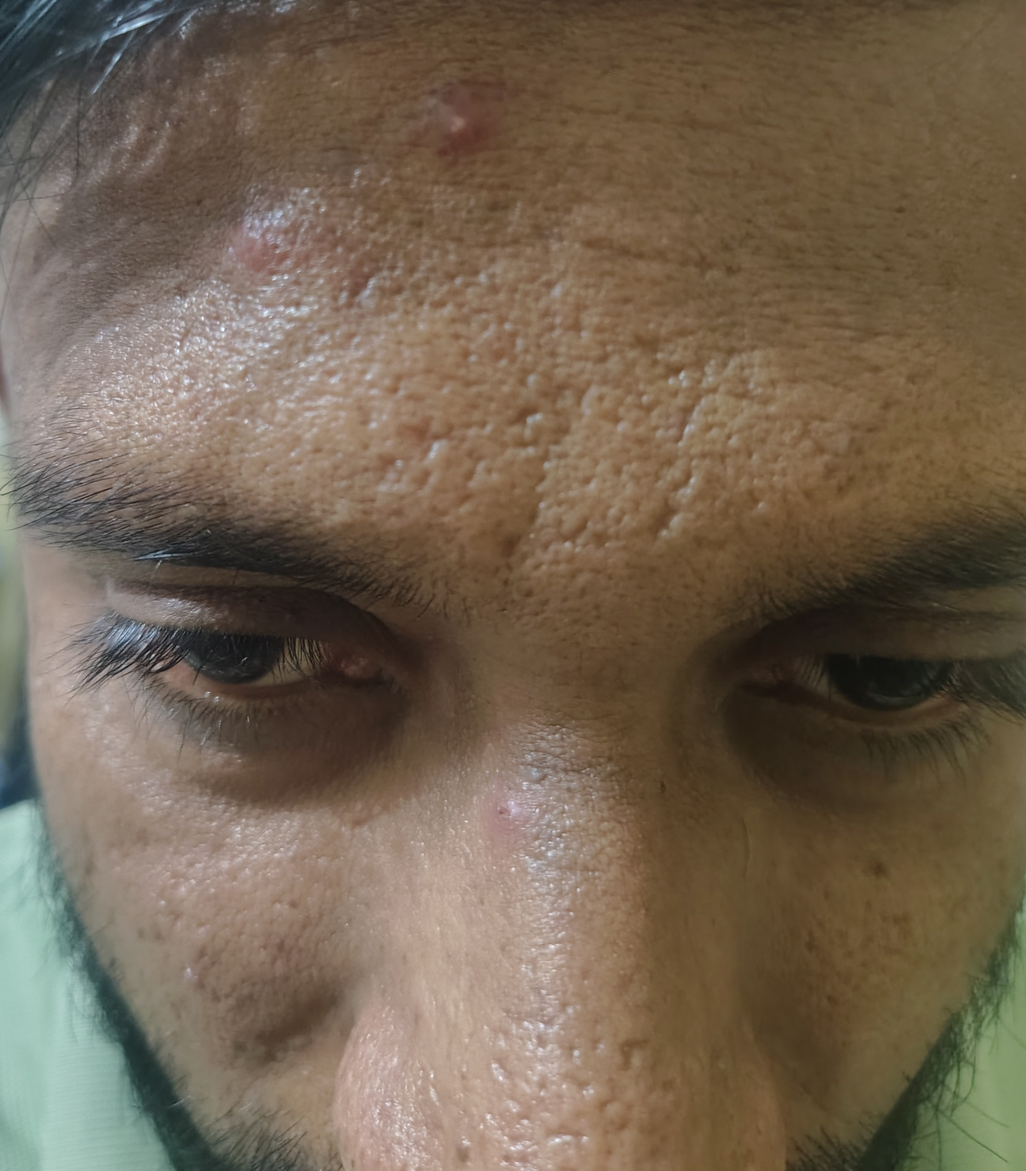pustule: (440, 94, 507, 162)
